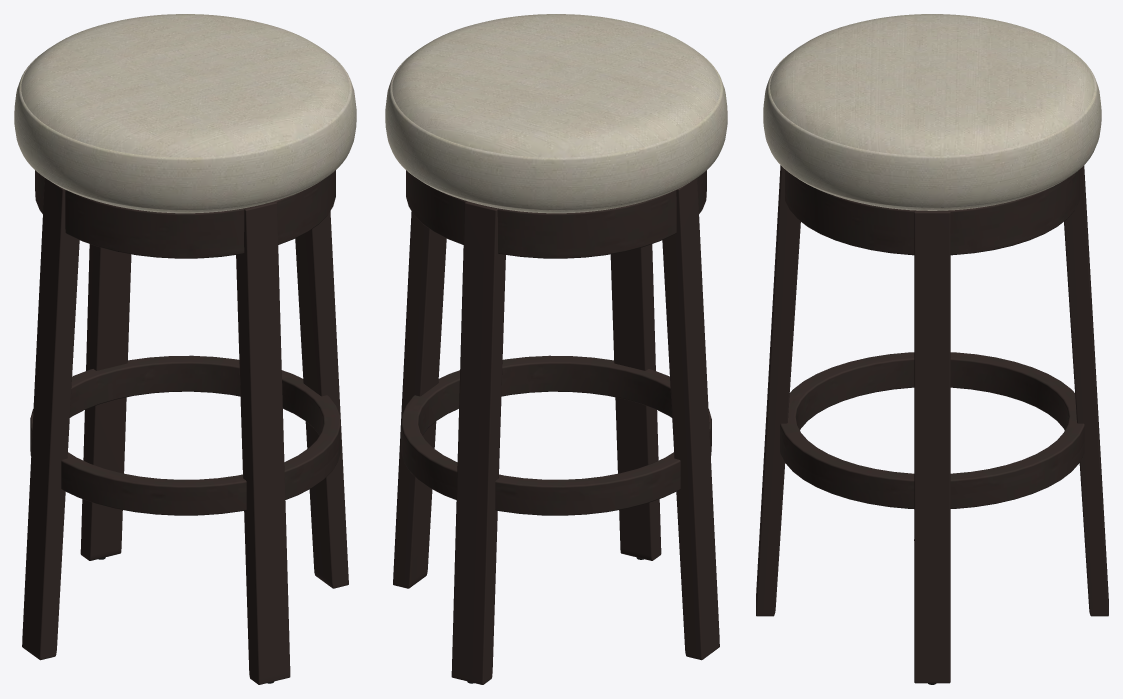
The model's file is abo-B07QJ1WX9F.glb.
3 renders of one model, left to right at view 1: azimuth 30°, elevation 25°; view 2: azimuth 150°, elevation 25°; view 3: azimuth 270°, elevation 25°, orthographic.
Bounding box in the file's own units: 0.446 × 0.758 × 0.446.
Materials: 1 (1 with a texture image).
